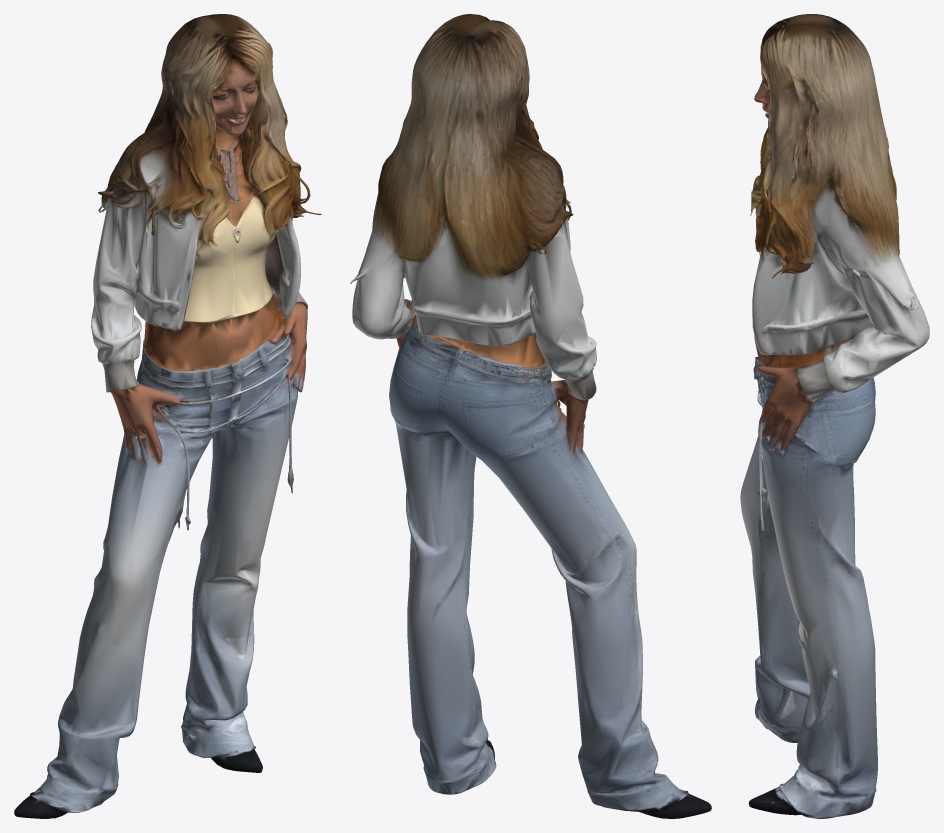
3 views of the same model, side by side, from view 1: azimuth 30°, elevation 25°; view 2: azimuth 150°, elevation 25°; view 3: azimuth 270°, elevation 25° (orthographic). The views are drawn at different scales.
Visible parts, largest first — view 1: node_0; view 2: node_0; view 3: node_0.
Boxes of the visible parts, <box> form: node_0: <box>14,14,321,818</box>; node_0: <box>350,14,711,818</box>; node_0: <box>740,14,929,818</box>.
Size of the model in its own units: 0.4827 by 1.11 by 0.2435.
Materials: 1 (1 with a texture image).
